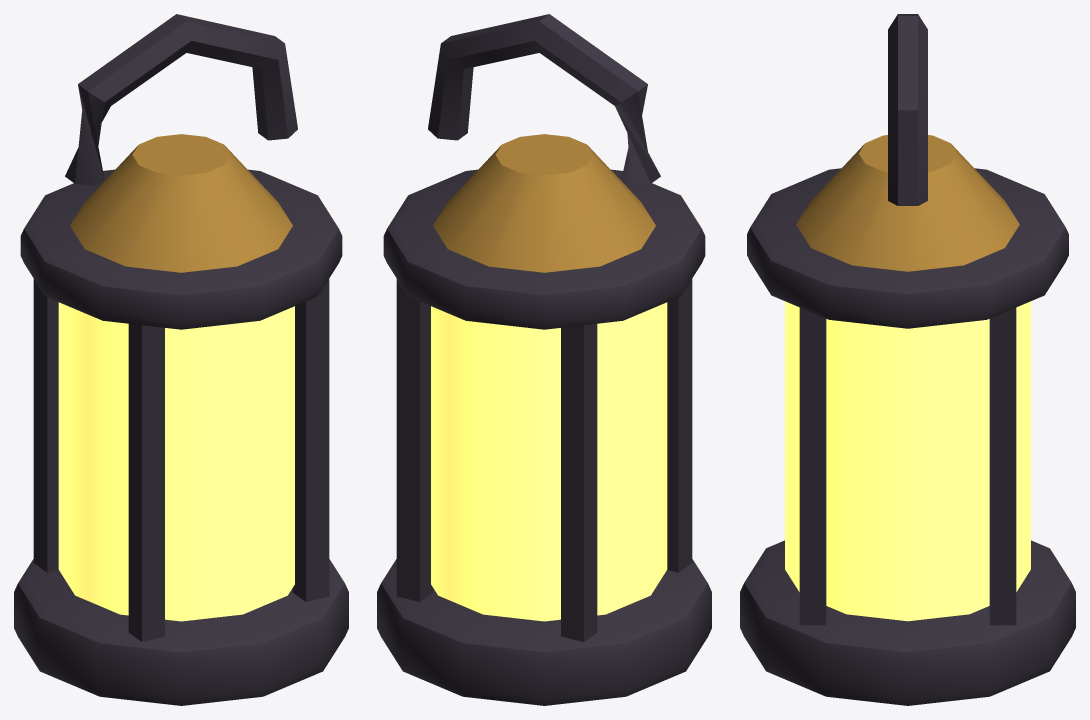
Rendered from ghost_lantern.glb.
3 renders of one model, left to right at view 1: azimuth 30°, elevation 25°; view 2: azimuth 150°, elevation 25°; view 3: azimuth 270°, elevation 25°, orthographic.
Visible parts, largest first — view 1: ghost_lantern; view 2: ghost_lantern; view 3: ghost_lantern.
Boxes of the visible parts, left/top/right/bottom form: ghost_lantern: left=14, top=14, right=348, bottom=705; ghost_lantern: left=377, top=14, right=711, bottom=705; ghost_lantern: left=740, top=14, right=1075, bottom=705.
Size of the model in its own units: 0.15 by 0.3078 by 0.15.
